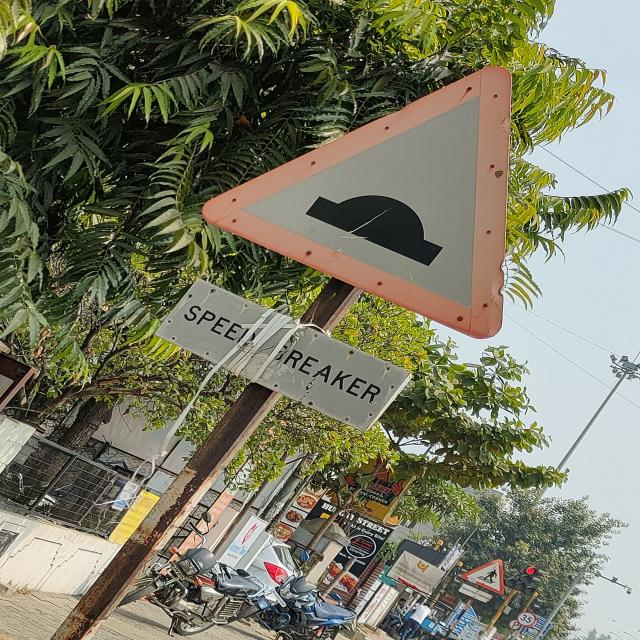HUMP_OR_ROUGH_ROAD: (201, 61, 512, 338)
